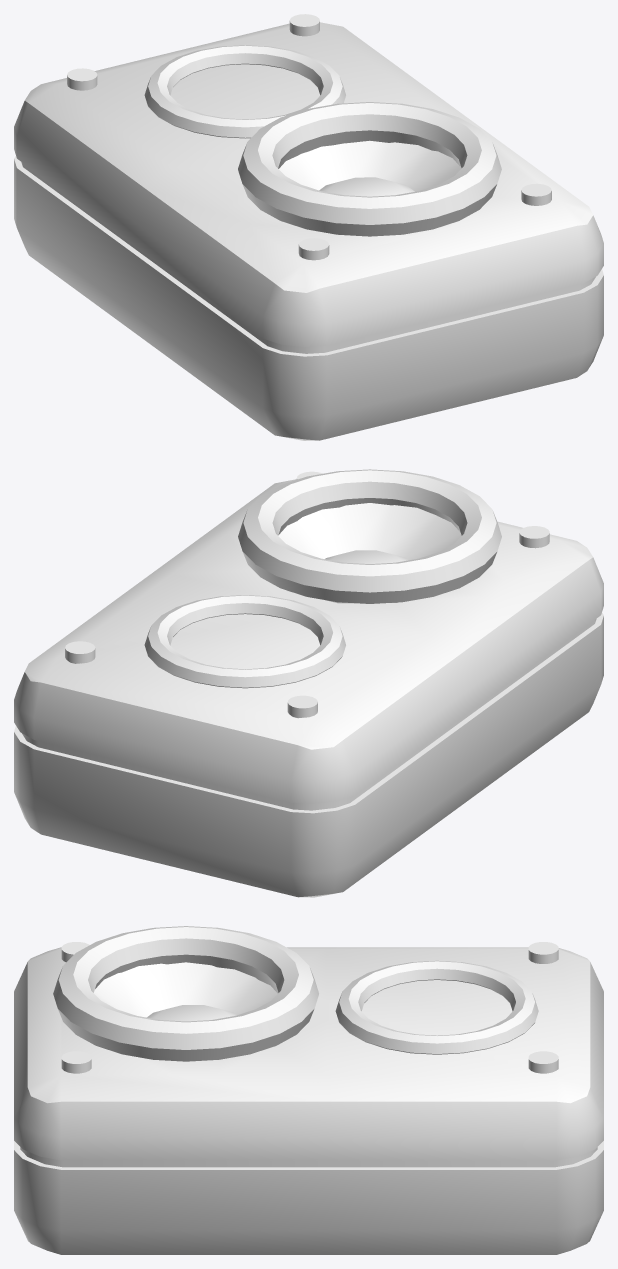
The model's file is Pin Model P3.fbx.
3 views of the same model, one above another, from view 1: azimuth 30°, elevation 25°; view 2: azimuth 150°, elevation 25°; view 3: azimuth 270°, elevation 25° (orthographic).
Visible parts, largest first — view 1: Speaker, Cube_043; view 2: Speaker, Cube_043; view 3: Speaker, Cube_043.
Part boxes in pixels (bbox=[...]): Speaker: bbox=[14, 14, 603, 440]; Cube_043: bbox=[238, 102, 501, 236]; Speaker: bbox=[14, 471, 603, 897]; Cube_043: bbox=[238, 469, 501, 603]; Speaker: bbox=[14, 942, 603, 1254]; Cube_043: bbox=[53, 926, 318, 1061].
Bounding box in the file's own units: 0.4761 × 0.2878 × 0.7142.
Materials: 6 (1 with a texture image).
